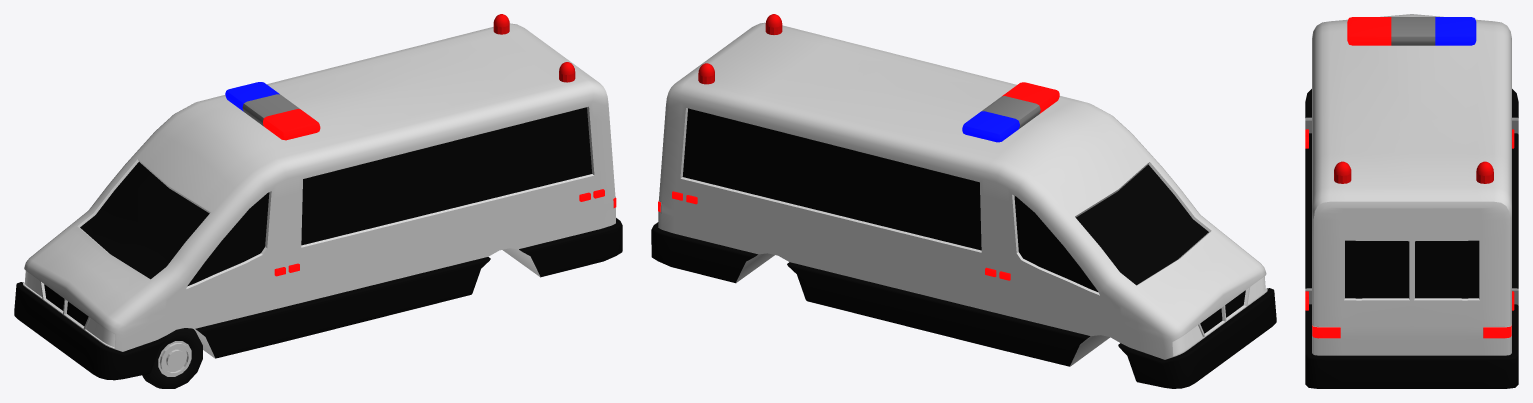
The model's file is Ambulance_M_V1_Raghu.fbx.
3 views of the same model, side by side, from view 1: azimuth 30°, elevation 25°; view 2: azimuth 150°, elevation 25°; view 3: azimuth 270°, elevation 25° (orthographic). The views are drawn at different scales.
Parts seen in each view (by area): view 1: Box029, Box031, Tube007, Cylinder001; view 2: Box029, Box031; view 3: Box029, Box031, Sphere004, Sphere005.
Part boxes in pixels (x1,y1,x2,y2): Box029: (14, 23, 622, 380); Box031: (225, 82, 320, 140); Tube007: (142, 328, 202, 388); Cylinder001: (158, 341, 191, 376); Box029: (651, 22, 1276, 388); Box031: (962, 82, 1059, 142); Box029: (1305, 14, 1518, 388); Box031: (1347, 17, 1476, 45); Sphere004: (1334, 161, 1351, 183); Sphere005: (1476, 161, 1493, 183).
Size of the model in its own units: 619 by 253 by 202.
